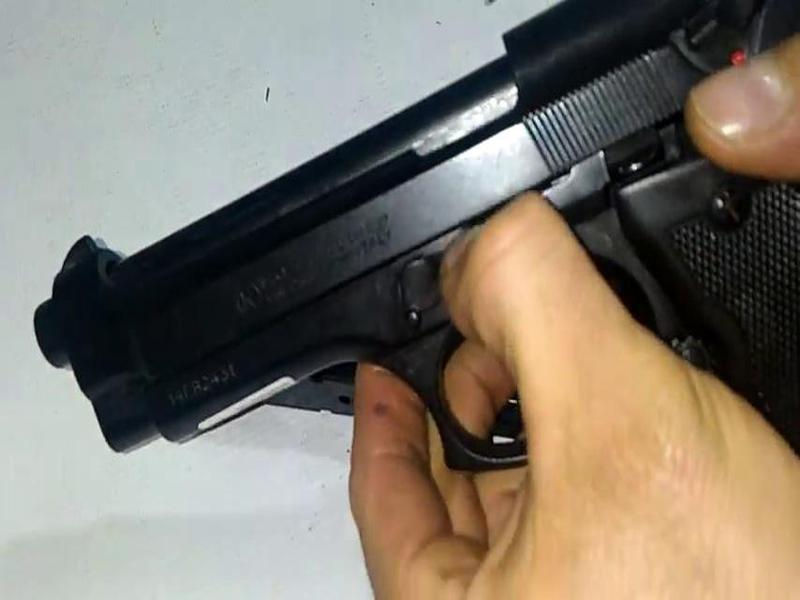Pistola: (17, 8, 776, 512)
